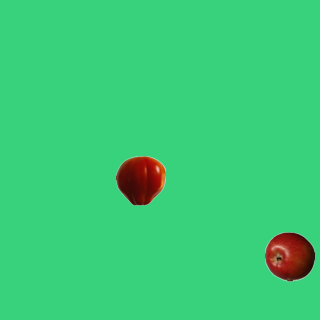Apple Braeburn: (264, 231, 314, 281)
Tomato 1: (115, 155, 165, 205)
